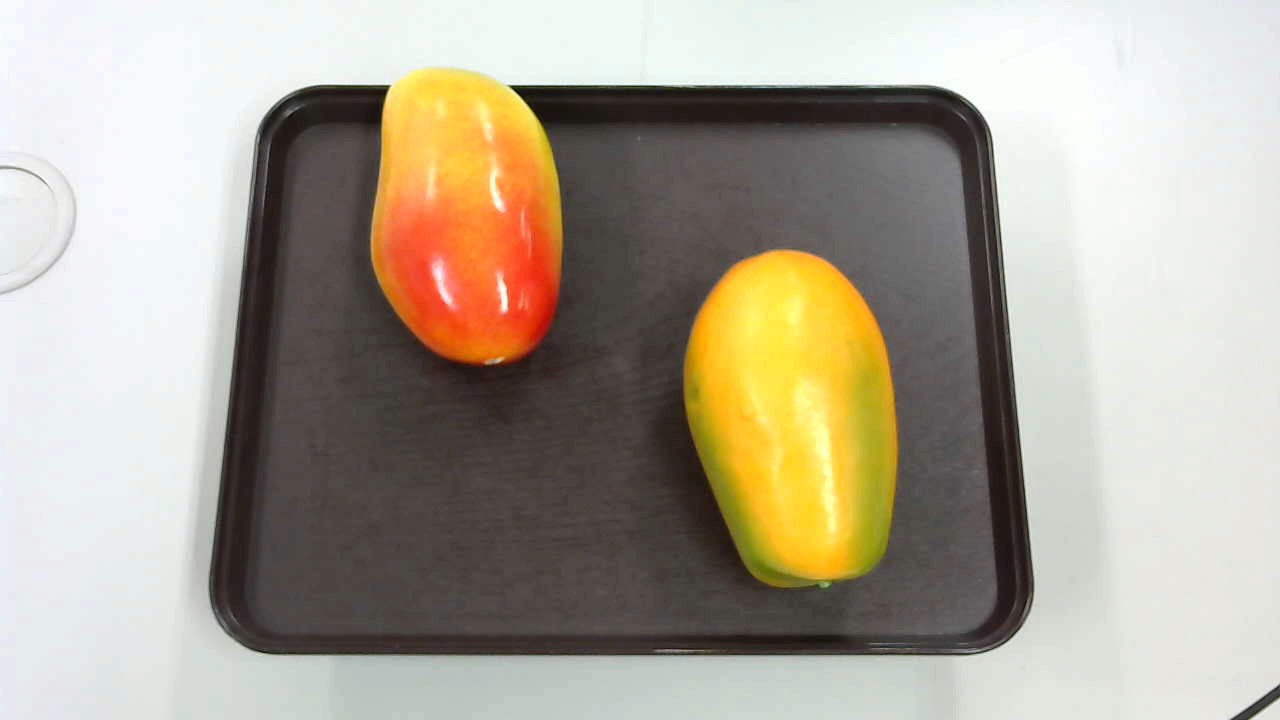papya: (680, 251, 895, 593)
red mango: (366, 60, 563, 372)
